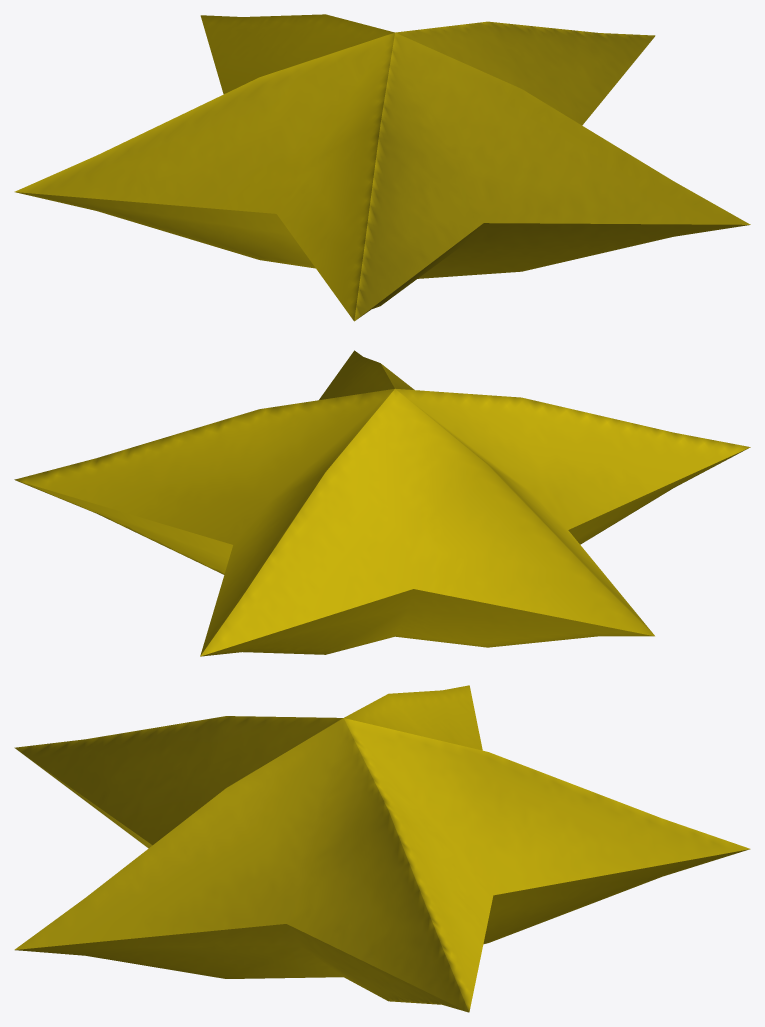
Rendered from star01.fbx.
3 views of the same model, one above another, from view 1: azimuth 30°, elevation 25°; view 2: azimuth 150°, elevation 25°; view 3: azimuth 270°, elevation 25° (orthographic). The views are drawn at different scales.
Parts seen in each view (by area): view 1: pCylinder9; view 2: pCylinder9; view 3: pCylinder9.
Boxes of the visible parts, x1=… form: pCylinder9: x1=14, y1=14, x2=750, y2=321; pCylinder9: x1=14, y1=350, x2=750, y2=656; pCylinder9: x1=14, y1=685, x2=750, y2=1012.
Bounding box in the file's own units: 1.9 × 0.7016 × 1.81.
